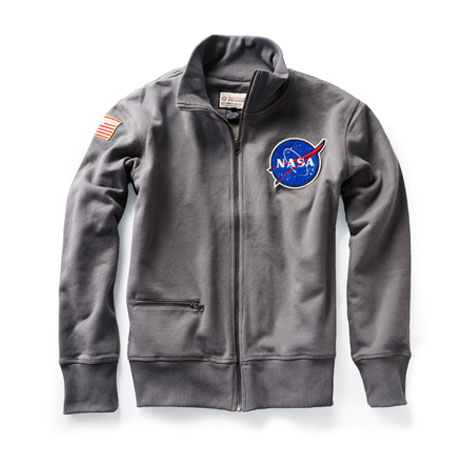NASA: (267, 135, 329, 190)
